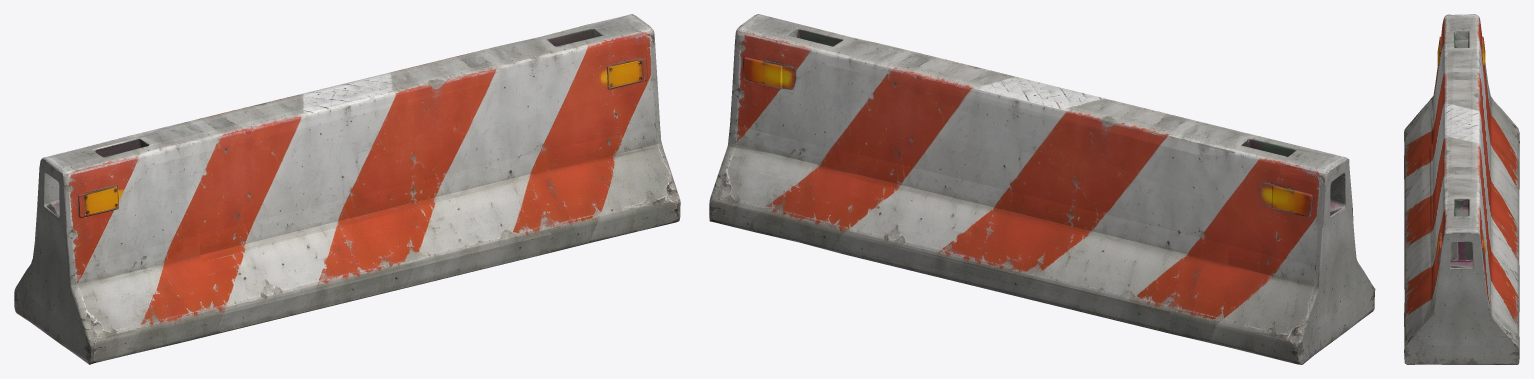
File: jersey-barrier.glb
3 renders of one model, left to right at view 1: azimuth 30°, elevation 25°; view 2: azimuth 150°, elevation 25°; view 3: azimuth 270°, elevation 25°, orthographic. The views are drawn at different scales.
Size of the model in its own units: 1 by 0.2842 by 0.2241.
1 material, 1 textured.
